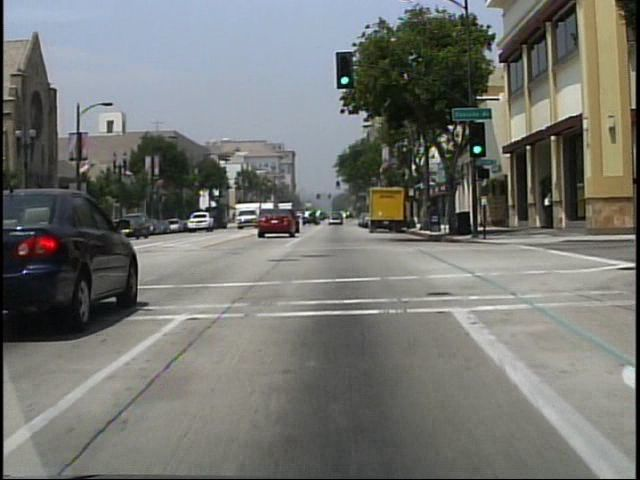person: (542, 192, 553, 229)
